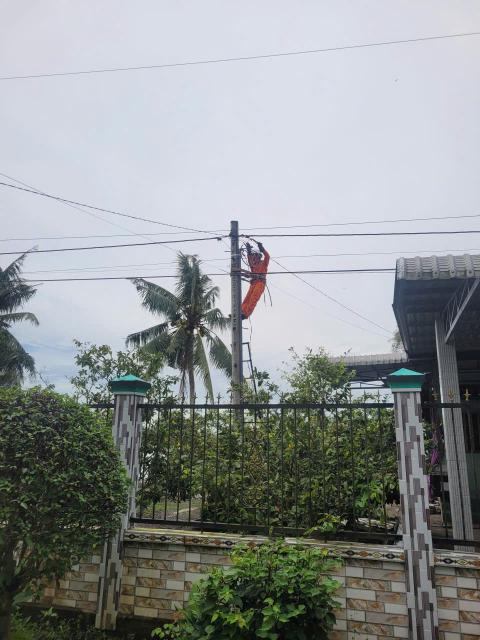gloves: (255, 241, 267, 253), (243, 243, 254, 253)
harness: (248, 271, 268, 283)
helmet: (250, 247, 266, 258)
shoes: (239, 312, 247, 321), (228, 313, 236, 320)
